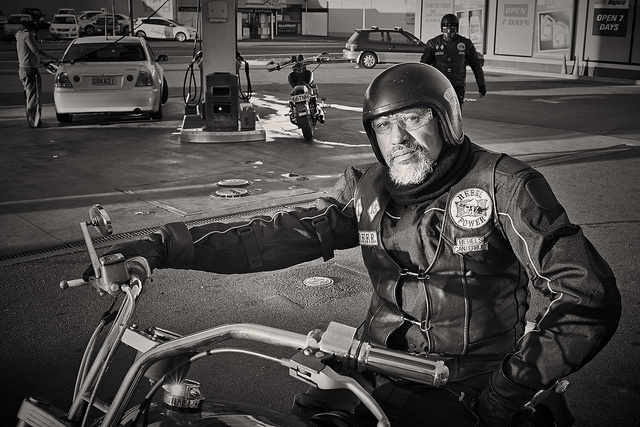non-vehicle: (18, 203, 451, 422), (267, 52, 326, 141)
